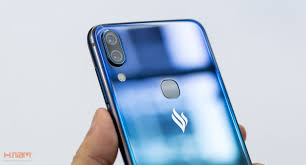vsmart: (85, 12, 253, 165)
